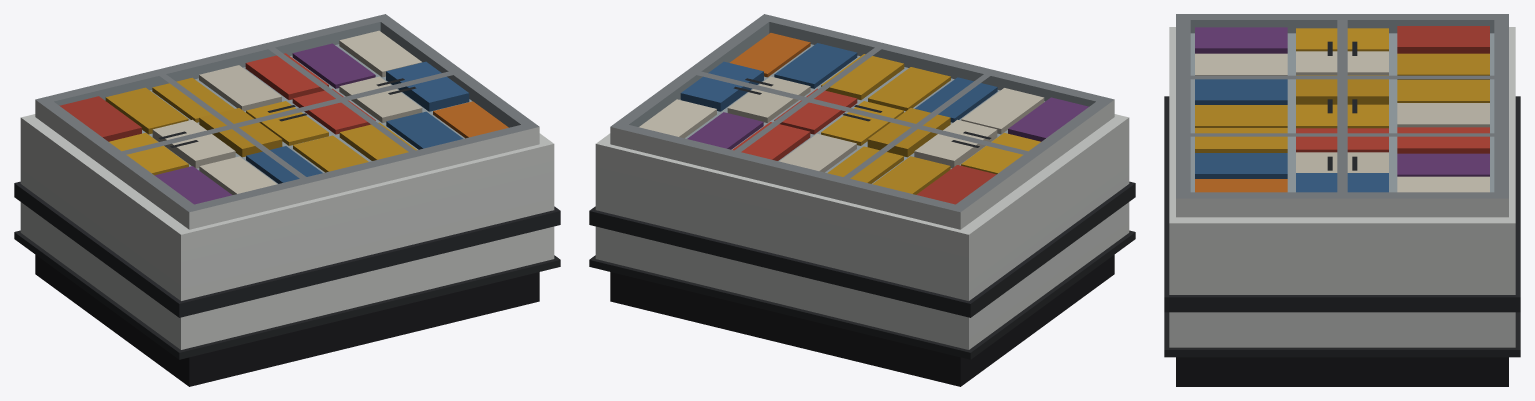
Rendered from appliance.freezer_chest.white.glb.
3 views of the same model, side by side, from view 1: azimuth 30°, elevation 25°; view 2: azimuth 150°, elevation 25°; view 3: azimuth 270°, elevation 25° (orthographic). The views are drawn at different scales.
Visible parts, largest first — view 1: appliance_freezer_chest_white; view 2: appliance_freezer_chest_white; view 3: appliance_freezer_chest_white.
Part boxes in pixels (x1=…): appliance_freezer_chest_white: x1=14, y1=14, x2=560, y2=386; appliance_freezer_chest_white: x1=589, y1=14, x2=1135, y2=386; appliance_freezer_chest_white: x1=1164, y1=14, x2=1520, y2=386.
Size of what is drawn, in the model's own units: 2.29 by 1 by 1.71.
